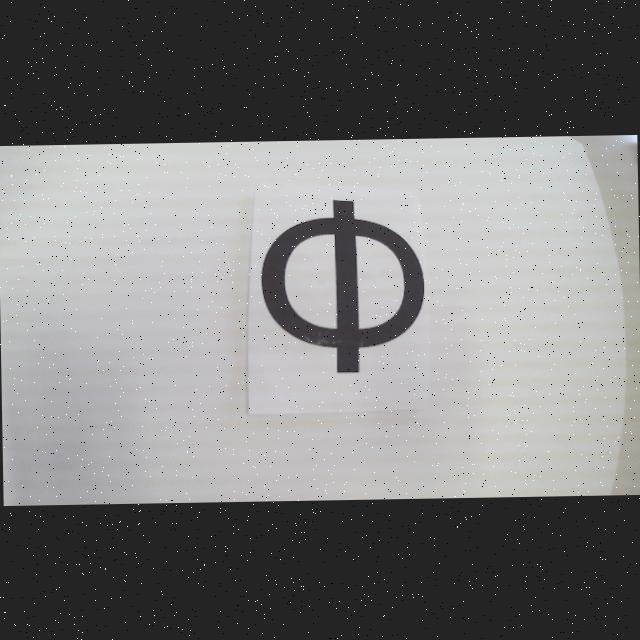PHI: (260, 196, 426, 374)
